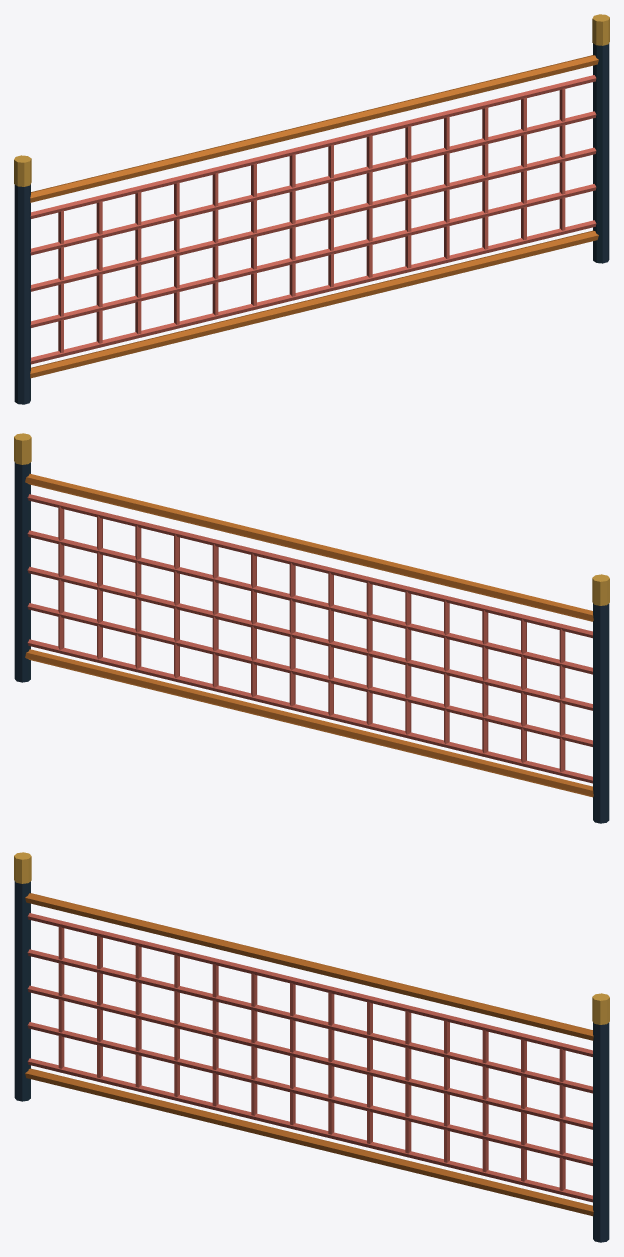
File: fence.glb
The picture shows the model from 3 angles, top to bottom: view 1: azimuth 30°, elevation 25°; view 2: azimuth 150°, elevation 25°; view 3: azimuth 330°, elevation 25°; orthographic projection.
Parts seen in each view (by area): view 1: fence_net, fence_rails, fence_posts; view 2: fence_net, fence_rails, fence_posts; view 3: fence_net, fence_rails, fence_posts.
Boxes of the visible parts, x1,y1,x2,y2 form: fence_net: (30,75,596,364); fence_rails: (30,55,598,378); fence_posts: (14,14,609,404); fence_net: (27,494,592,783); fence_rails: (25,474,593,797); fence_posts: (14,433,609,823); fence_net: (27,913,592,1202); fence_rails: (25,893,593,1216); fence_posts: (14,852,609,1242).
Size of the model in its own units: 3.08 by 1.2 by 0.0754.
